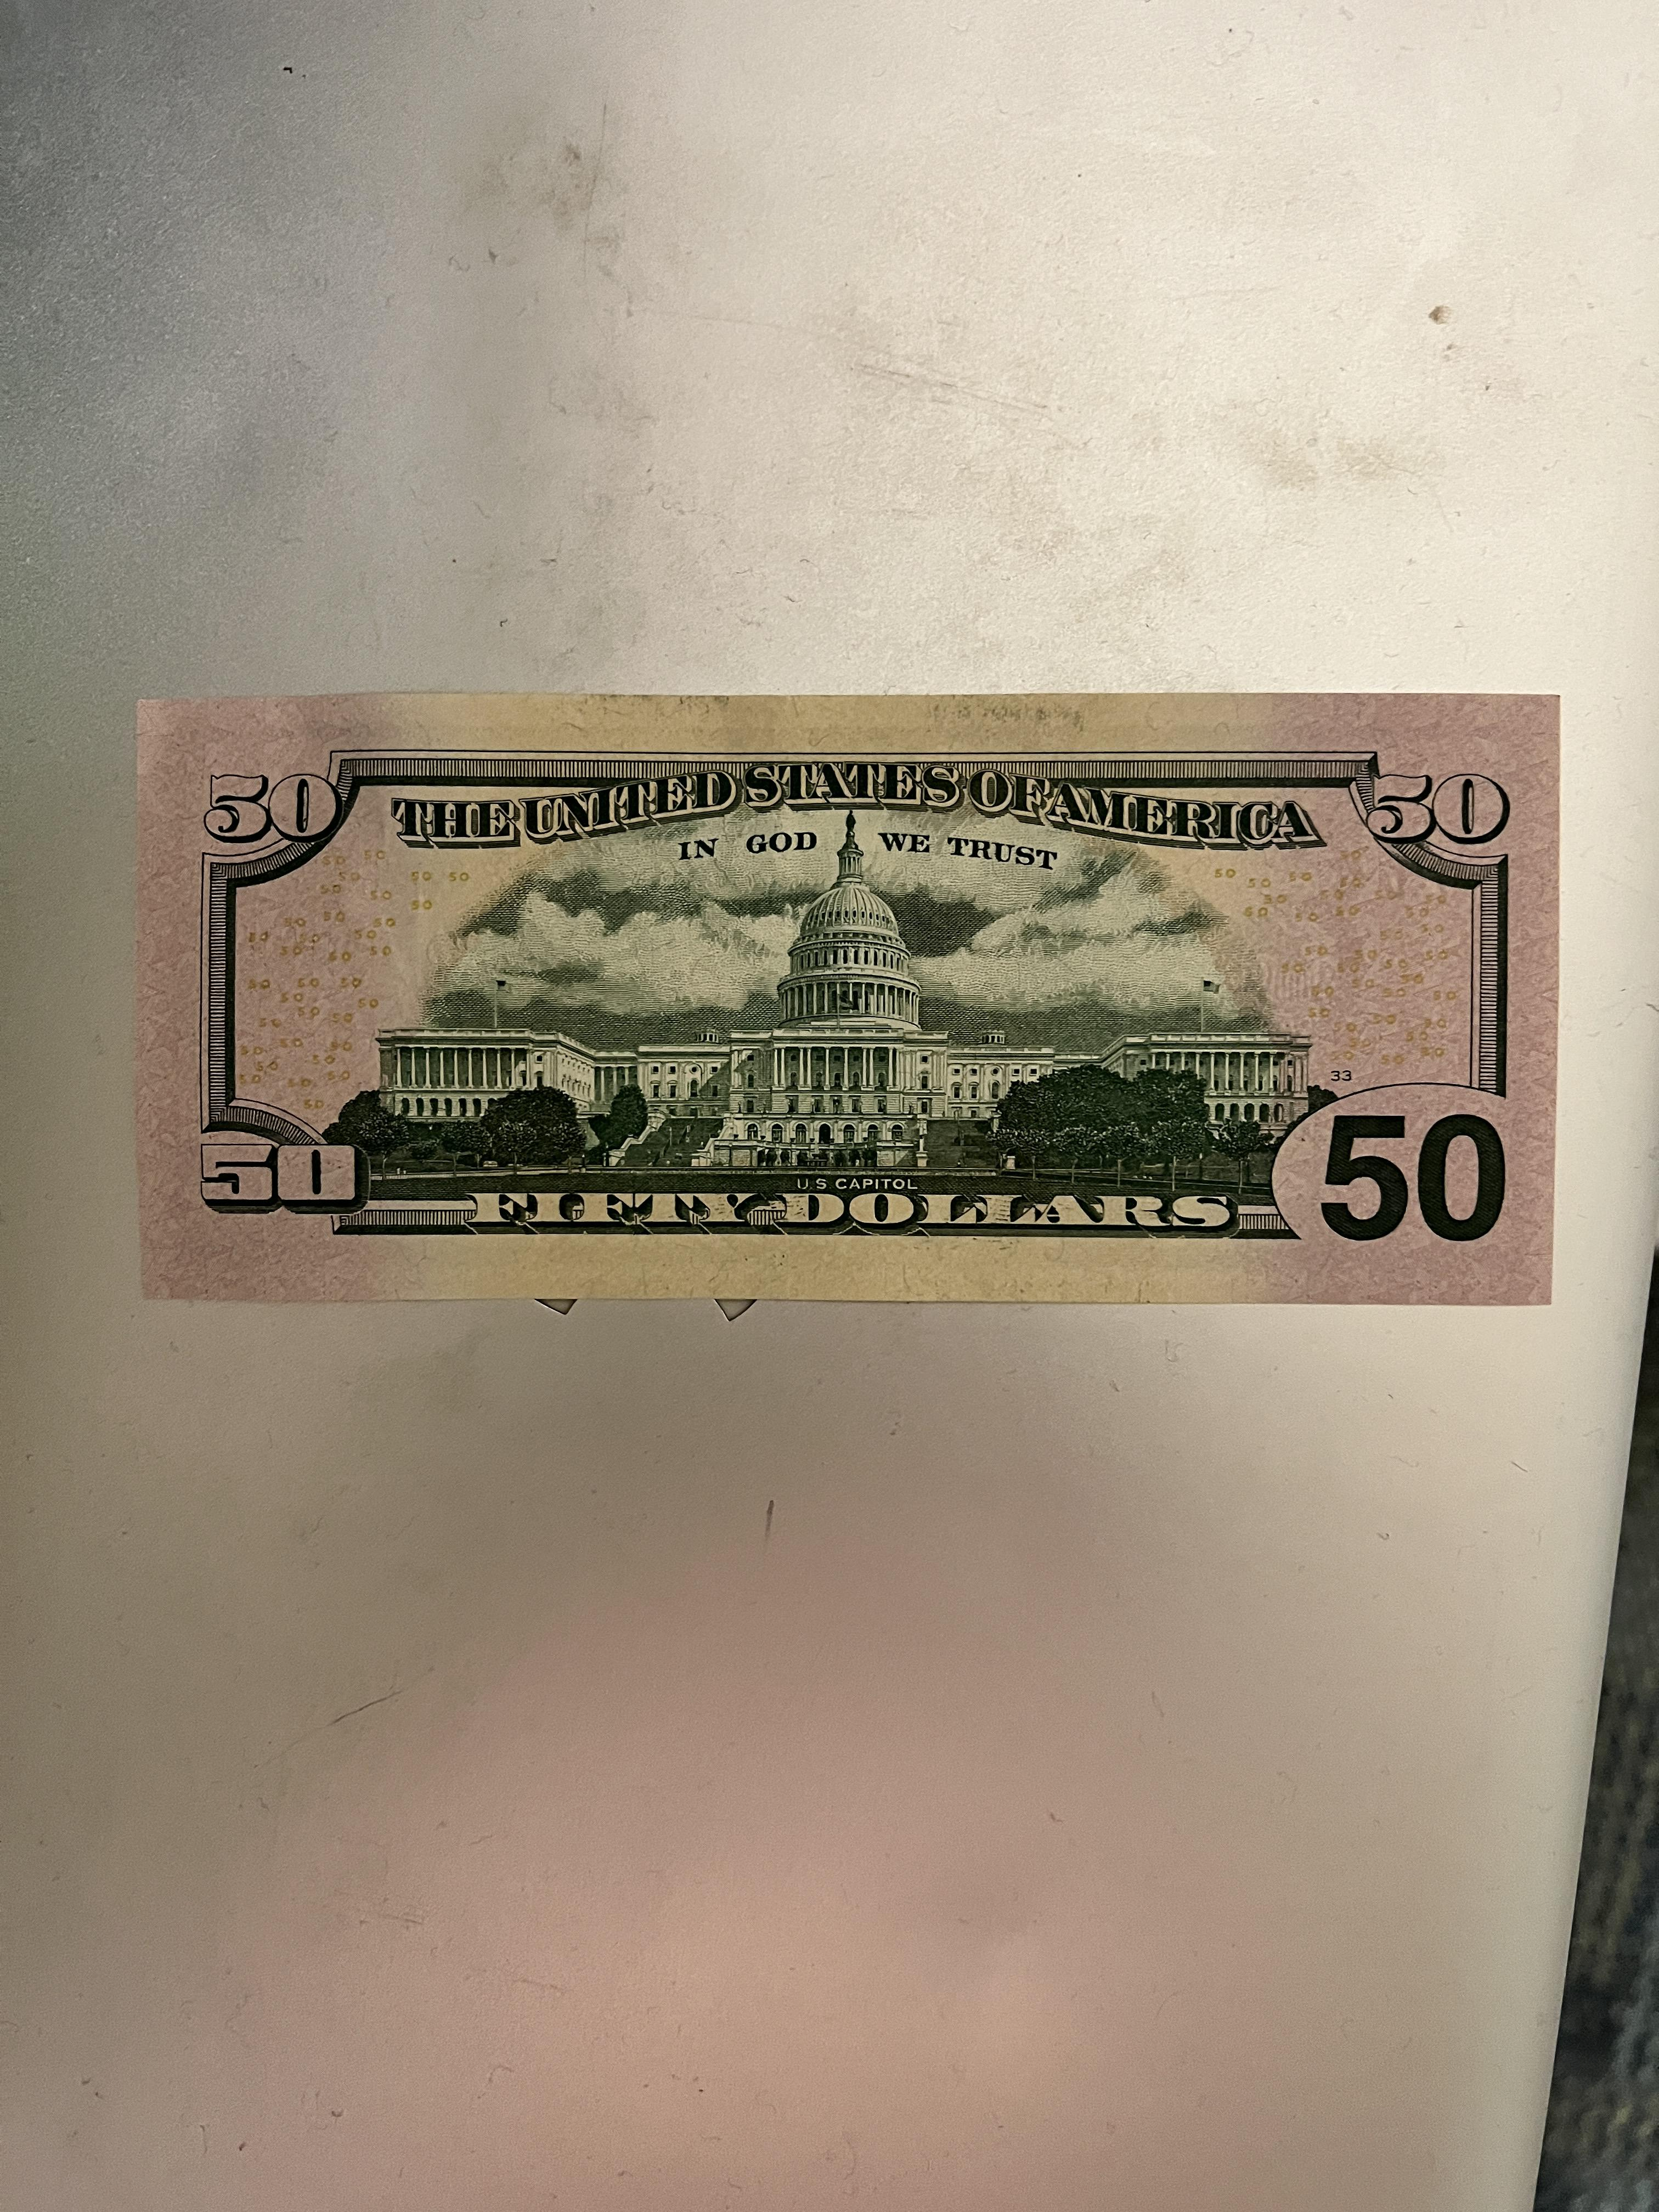FiftyBill: (110, 683, 1574, 1318)
